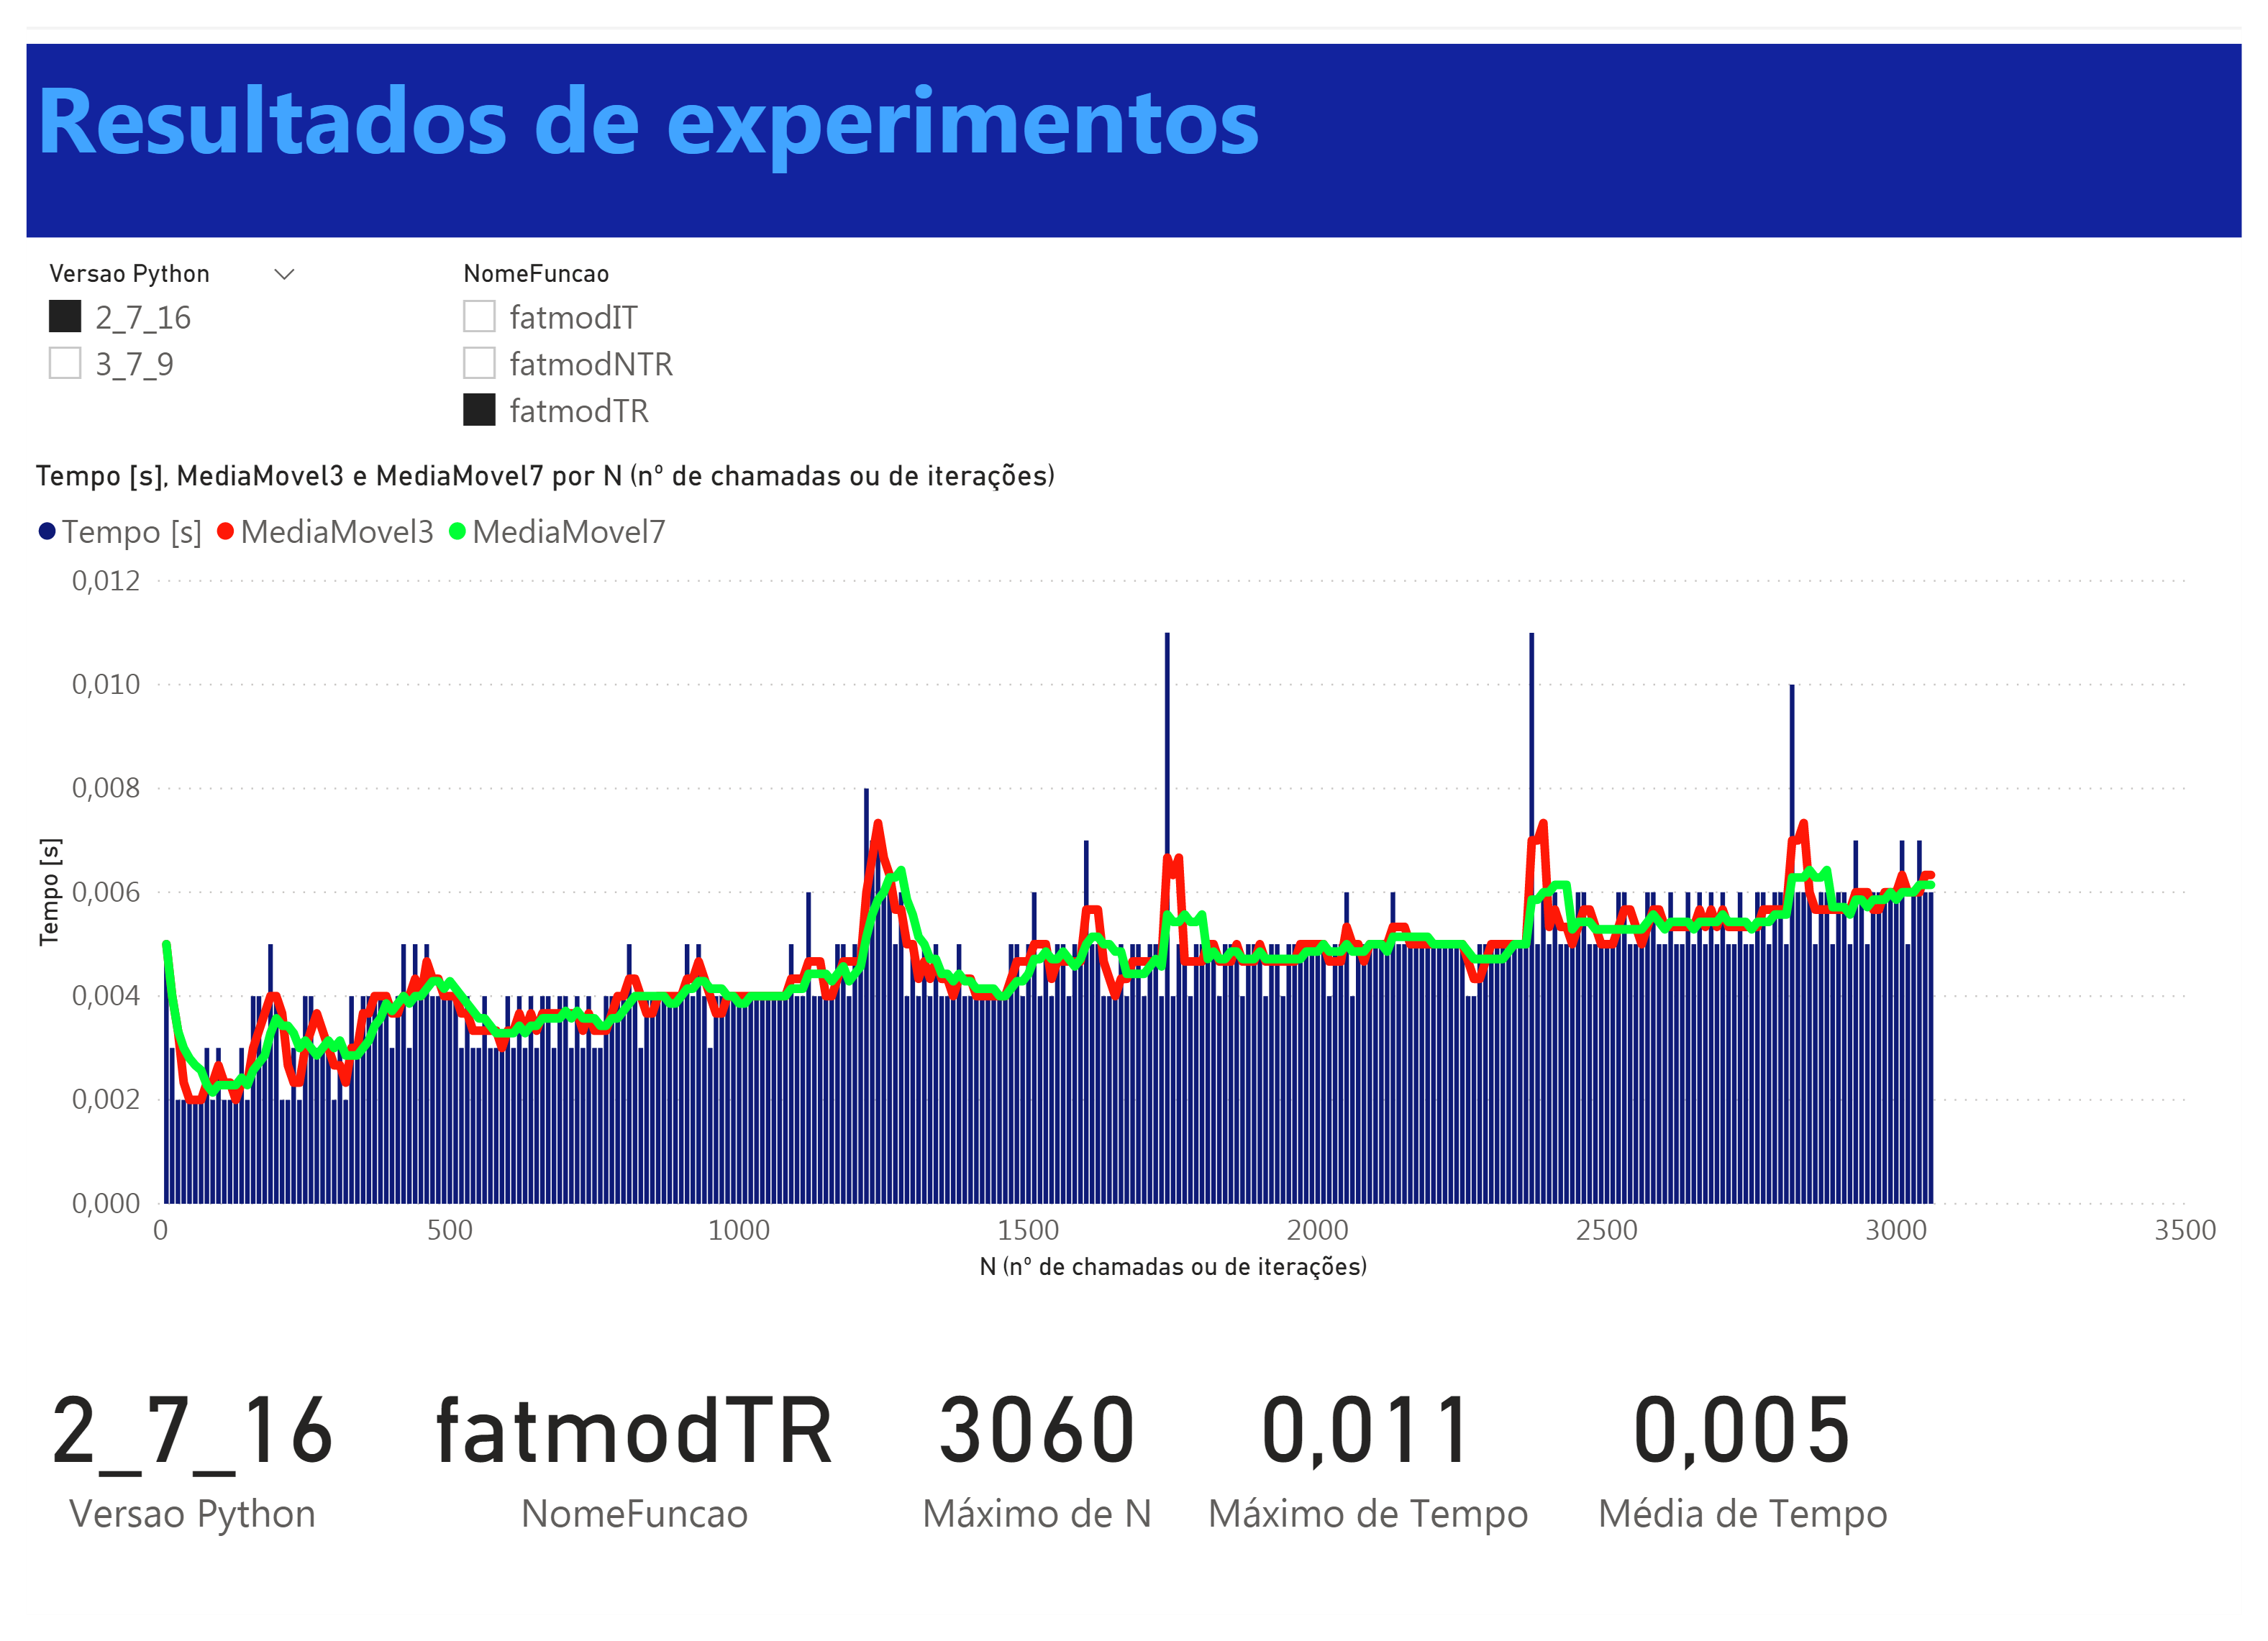

The page's visual inventory and layout, read from the dashboard file:
{"tool":"powerbi","page":{"name":"MDC","canvas":[1280,900],"ordinal":8},"visuals":[{"type":"card","fields":{"Values":["Max(Tabela1.Tempo)"]},"box":[600,720,216,168],"z":0},{"type":"card","fields":{"Values":["Min(Tabela1.NomeFuncao)"]},"box":[192,704,208,192],"z":1000},{"type":"card","fields":{"Values":["Max(Tabela1.N)"]},"box":[408,720,168,168],"z":2000},{"type":"card","fields":{"Values":["Avg(Tabela1.Tempo)"]},"box":[840,720,216,168],"z":3000},{"type":"slicer","fields":{"Values":["Tabela1.Versao Python"]},"box":[0,112,176,112],"z":4000},{"type":"card","fields":{"Values":["Min(Tabela1.Versao Python)"]},"box":[0,704,192,192],"z":5000},{"type":"textbox","box":[0,0,1280,112],"z":6000},{"type":"slicer","fields":{"Values":["Tabela1.NomeFuncao"]},"box":[192,112,176,112],"z":7000},{"type":"lineClusteredColumnComboChart","fields":{"Y":["Sum(Tabela1.Tempo)"],"Category":["Tabela1.N"],"Y2":["Tabela1.MediaMovel3","Tabela1.MediaMovel7"]},"box":[0,216,1272,504],"z":8000}]}

Visuals, with their boxes in screenshot pixels (x1, y1, x2, y2), scaled from the page's 1280x900 canvas onto the 2268x1641 screenshot:
card - Max(Tabela1.Tempo): <region>1063, 1313, 1446, 1619</region>
card - Min(Tabela1.NomeFuncao): <region>340, 1284, 709, 1634</region>
card - Max(Tabela1.N): <region>723, 1313, 1021, 1619</region>
card - Avg(Tabela1.Tempo): <region>1488, 1313, 1871, 1619</region>
slicer - Tabela1.Versao Python: <region>0, 204, 312, 408</region>
card - Min(Tabela1.Versao Python): <region>0, 1284, 340, 1634</region>
textbox: <region>0, 0, 2267, 204</region>
slicer - Tabela1.NomeFuncao: <region>340, 204, 652, 408</region>
lineClusteredColumnComboChart - Sum(Tabela1.Tempo) x Tabela1.N: <region>0, 394, 2254, 1313</region>
